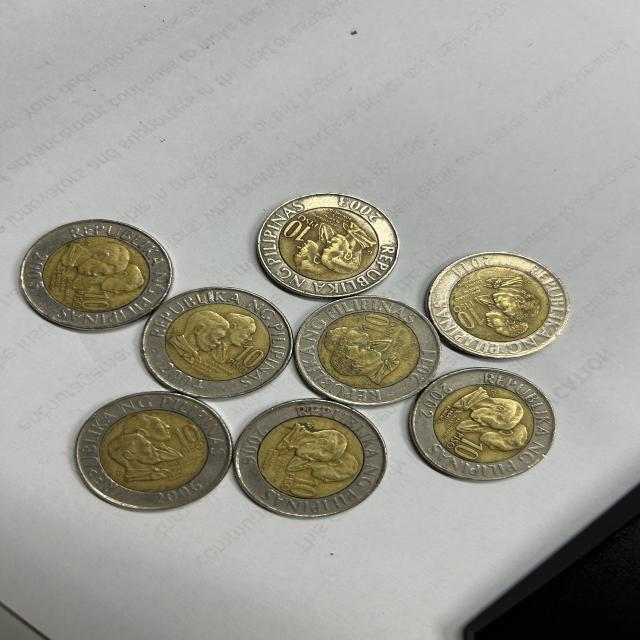10_Old_Front: (77, 289, 114, 312), (289, 474, 323, 498), (452, 436, 484, 460), (360, 314, 395, 334), (453, 310, 488, 330), (173, 424, 204, 446), (284, 219, 312, 242), (236, 346, 263, 367)
